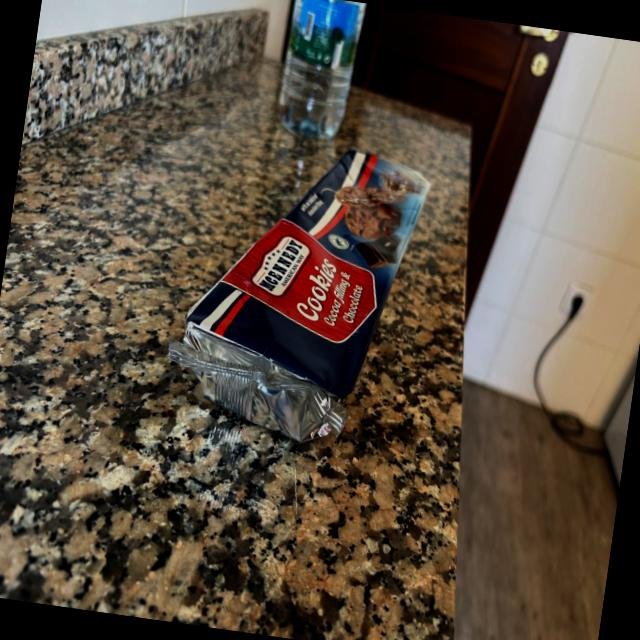good_package: (156, 126, 439, 457)
